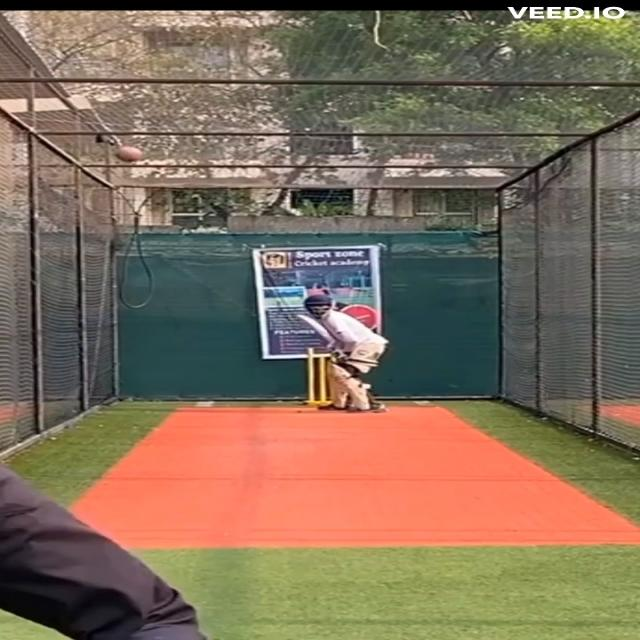ball: (111, 144, 149, 166)
stump: (302, 348, 334, 407)
